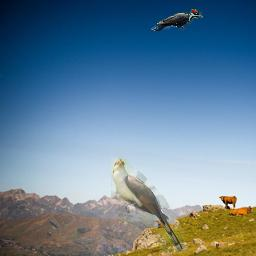Cuckoo: (111, 157, 185, 252)
Woodpecker: (151, 9, 203, 31)
